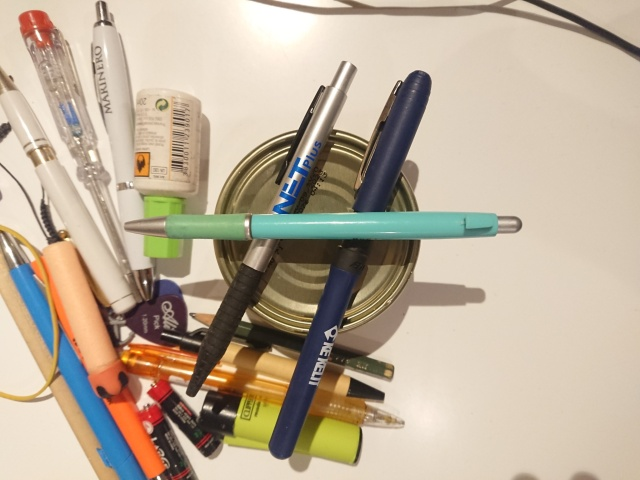Giana Tuna Salad Mexico 185g: (206, 124, 428, 342)
